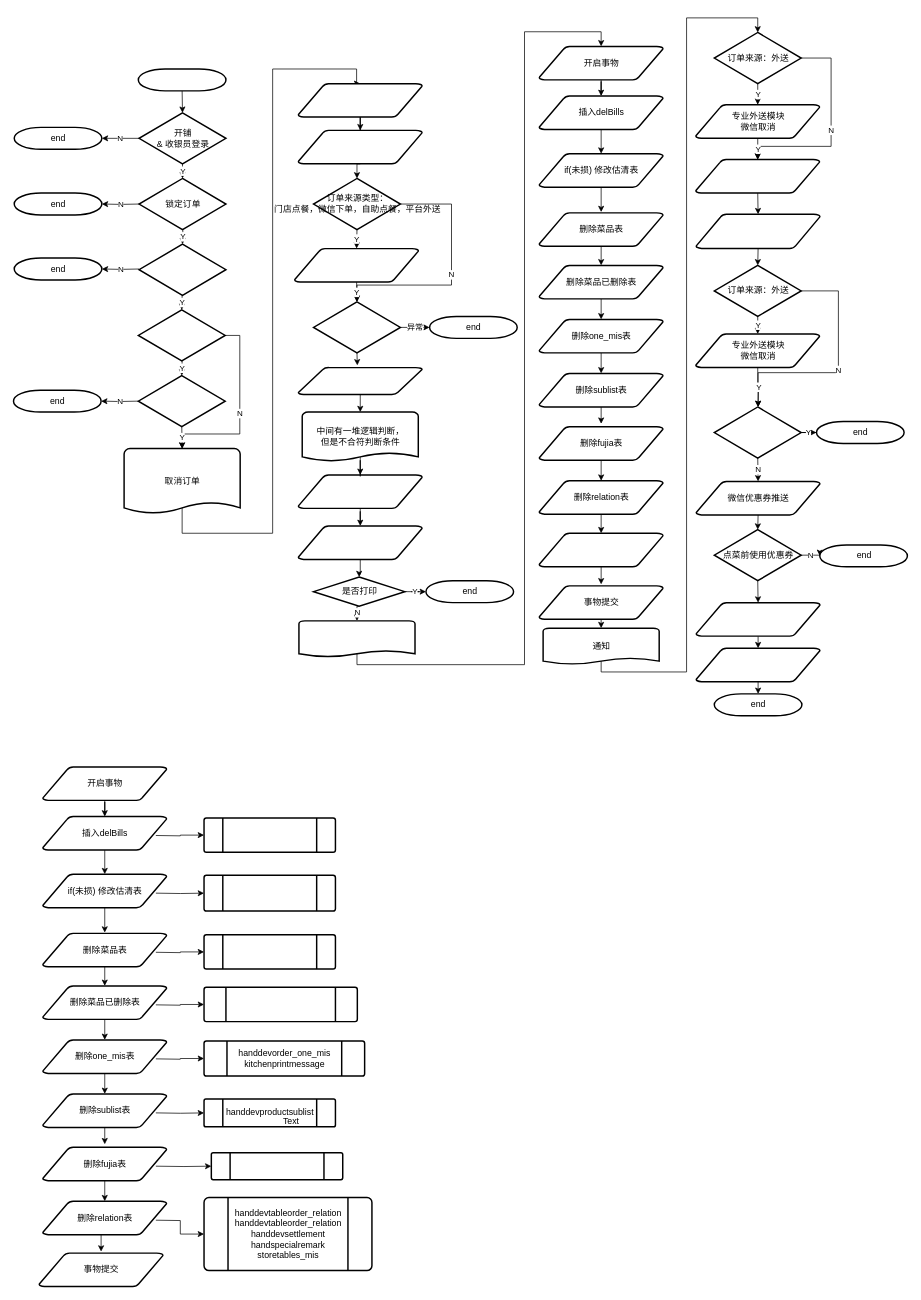
This 921x1300 diagram has some shape labels left out. Each missing label, with the centre of its shape:
"acctid = isjCode" goes at (x=360, y=491).
"delbills alipay_operate" goes at (x=269, y=835).
"handdevorder_fujia" goes at (x=276, y=1166).
"handdevorder_mis handdevprodutsublist productslimitcnt" goes at (x=269, y=892).
"handdevorder_mis products" goes at (x=269, y=951).
"handdevorder_mis_delete products handdevorder_mis" goes at (x=280, y=1004).
"start" goes at (x=181, y=79).
"state = httReasonstong" goes at (x=360, y=542).
"修改取消菜品" goes at (x=757, y=175).
"删除优惠券使用" goes at (x=758, y=619).
"将取消数据上传MQ" goes at (x=758, y=231).
"控制DLL" goes at (x=181, y=400).
"控制授权" goes at (x=182, y=269).
"有未知在线交易记录， 不能取消" goes at (x=356, y=265).
"查看厨房是否有出单" goes at (x=356, y=327).
"查询订单来源类型" goes at (x=360, y=146).
"核心逻辑处理" goes at (x=356, y=639).
"生成KVS数据" goes at (x=360, y=100).
"界面操作" goes at (x=601, y=549).
"自助点餐" goes at (x=757, y=432).
"获取配置点值： kvsAuthOrise" goes at (x=360, y=380).
"雅座会员" goes at (x=181, y=335).
"页面准备" goes at (x=758, y=664).
